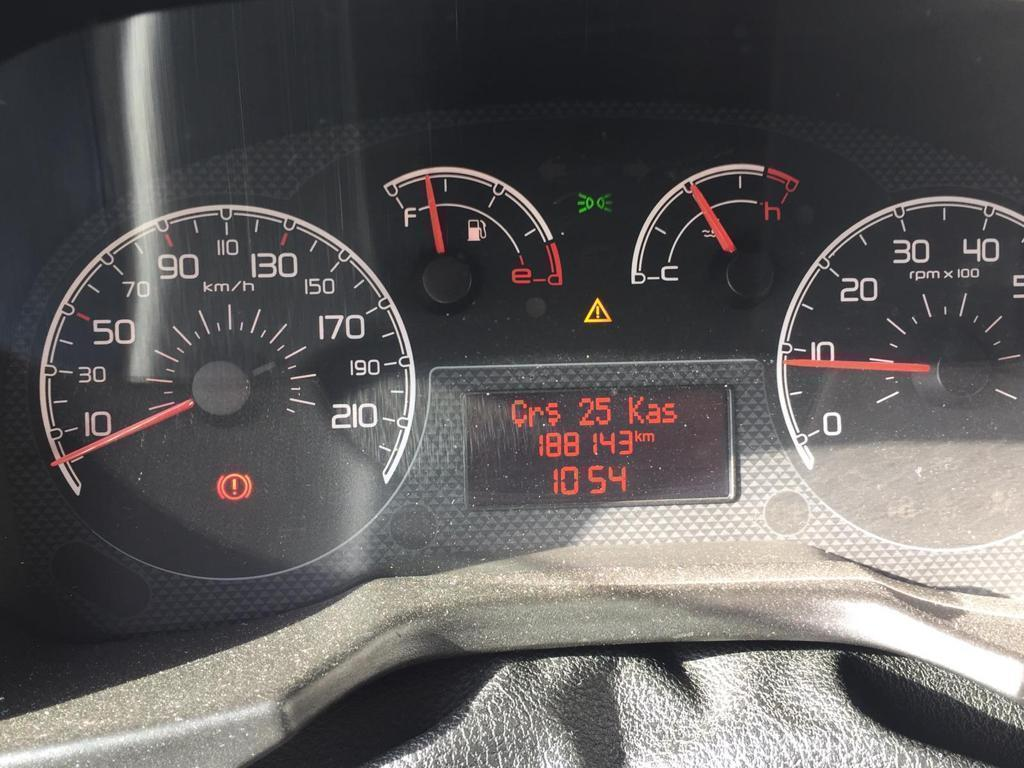0: (560, 465, 579, 495)
1: (552, 468, 558, 495), (538, 433, 544, 457), (592, 432, 598, 456)
2: (577, 397, 594, 426)
3: (617, 429, 633, 455)
4: (607, 465, 626, 492), (599, 431, 615, 454)
5: (587, 464, 606, 493), (594, 397, 611, 425)
8: (562, 431, 580, 457), (545, 432, 562, 457)
X: (510, 399, 527, 428), (628, 395, 644, 424), (528, 406, 544, 428), (545, 402, 560, 425), (661, 403, 677, 423), (645, 403, 660, 424), (642, 432, 654, 442), (634, 429, 642, 441)
odometer: (461, 385, 735, 508)
